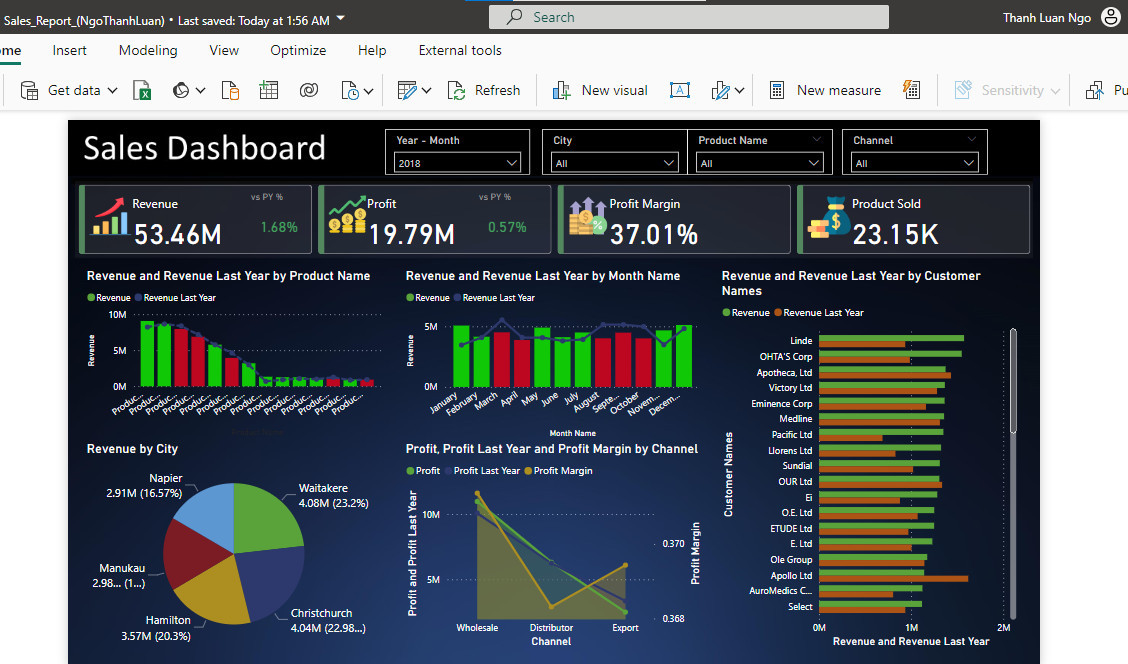

Layout of this report page (visuals, bound fields, positions):
{"tool":"powerbi","page":{"name":"Sales Report","canvas":[1280,720],"ordinal":0},"visuals":[{"type":"slicer","fields":{"Values":["Date.Year","Date.Month Short Name"]},"box":[421.2,10,170,60],"z":0},{"type":"slicer","fields":{"Values":["Regions_Table.City"]},"box":[640,10,170,60],"z":1000},{"type":"slicer","fields":{"Values":["Products_Data.Product Name"]},"box":[851.2,10,170,60],"z":2000},{"type":"slicer","fields":{"Values":["Sales_Data.Channel"]},"box":[1047.5,10,170,60],"z":3000},{"type":"lineClusteredColumnComboChart","fields":{"Y":["All_Measure.Revenue"],"Y2":["All_Measure.Revenue Last Year"],"Category":["Products_Data.Product Name"]},"box":[7.5,180,433.8,240],"z":4000},{"type":"pieChart","fields":{"Y":["All_Measure.Revenue"],"Category":["Regions_Table.City"]},"box":[7.9,439.5,434.2,240.8],"z":5000},{"type":"areaChart","fields":{"Category":["Sales_Data.Channel"],"Y":["All_Measure.Profit","All_Measure.Profit Last Year"],"Y2":["All_Measure.Profit Margin"]},"box":[453.9,439.5,432.9,240.8],"z":6000},{"type":"clusteredBarChart","fields":{"Category":["Customer_Data.Customer Names"],"Y":["All_Measure.Revenue","All_Measure.Revenue Last Year"]},"box":[901.2,180,370,500],"z":7000},{"type":"lineClusteredColumnComboChart","fields":{"Y":["All_Measure.Revenue"],"Y2":["All_Measure.Revenue Last Year"],"Category":["Date.Month Short Name"]},"box":[453.8,180,433.8,240],"z":8000},{"type":"cardVisual","fields":{"Data":["All_Measure.Revenue","All_Measure.Profit","All_Measure.Profit Margin","All_Measure.Product Sold"]},"box":[7.5,70,1263.8,101.2],"z":9000},{"type":"cardVisual","title":"vs PY %","fields":{"Data":["All_Measure.Revenue Compare with Last Year %"]},"box":[233.8,83.8,106.2,75],"z":10000},{"type":"cardVisual","title":"vs PY %","fields":{"Data":["All_Measure.Profit vs PY %"]},"box":[533.8,83.8,106.2,75],"z":11000}]}

Visuals, with their boxes on the page's 1280x720 design canvas (x1, y1, x2, y2). These are canvas units, not pixel positions in the 1128x664 screenshot, which may show the page scaled, cropped or inside an application window:
slicer - Date.Year x Date.Month Short Name: x1=421 y1=10 x2=591 y2=70
slicer - Regions_Table.City: x1=640 y1=10 x2=810 y2=70
slicer - Products_Data.Product Name: x1=851 y1=10 x2=1021 y2=70
slicer - Sales_Data.Channel: x1=1048 y1=10 x2=1218 y2=70
lineClusteredColumnComboChart - All_Measure.Revenue x All_Measure.Revenue Last Year: x1=8 y1=180 x2=441 y2=420
pieChart - All_Measure.Revenue x Regions_Table.City: x1=8 y1=440 x2=442 y2=680
areaChart - Sales_Data.Channel x All_Measure.Profit: x1=454 y1=440 x2=887 y2=680
clusteredBarChart - Customer_Data.Customer Names x All_Measure.Revenue: x1=901 y1=180 x2=1271 y2=680
lineClusteredColumnComboChart - All_Measure.Revenue x All_Measure.Revenue Last Year: x1=454 y1=180 x2=888 y2=420
cardVisual - All_Measure.Revenue x All_Measure.Profit: x1=8 y1=70 x2=1271 y2=171
"vs PY %" cardVisual: x1=234 y1=84 x2=340 y2=159
"vs PY %" cardVisual: x1=534 y1=84 x2=640 y2=159
